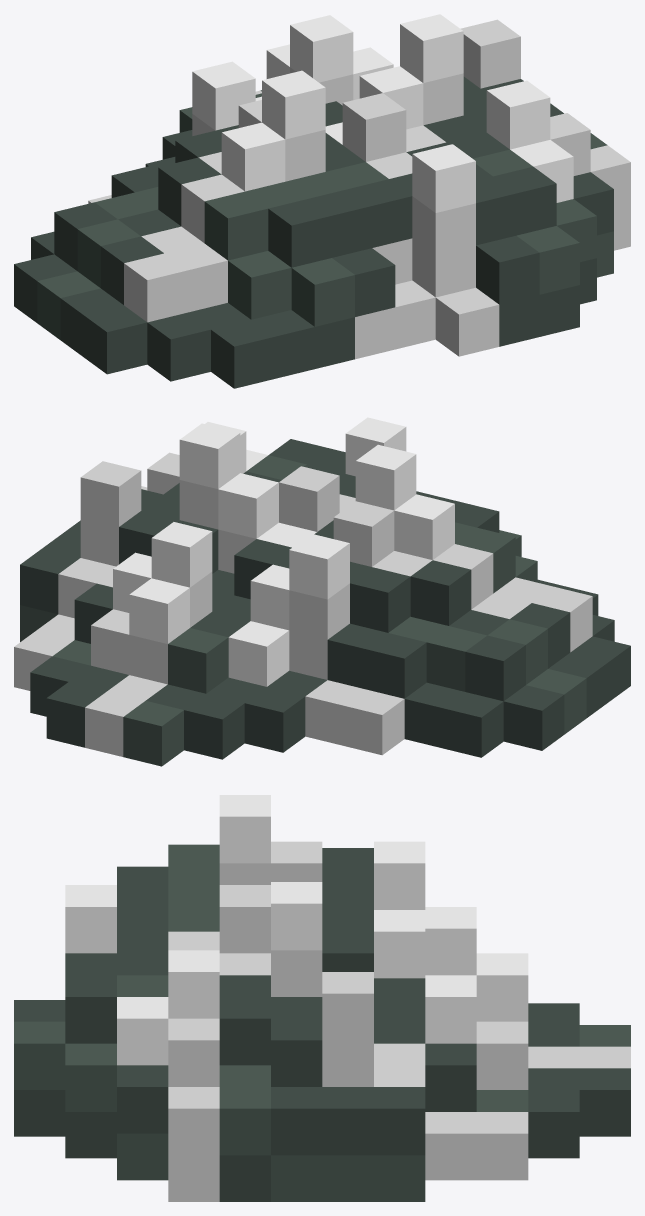
File: CrystalDeposit_M.obj
3 views of the same model, one above another, from view 1: azimuth 30°, elevation 25°; view 2: azimuth 150°, elevation 25°; view 3: azimuth 270°, elevation 25° (orthographic). The views are drawn at different scales.
Parts seen in each view (by area): view 1: CrystalDeposit_M; view 2: CrystalDeposit_M; view 3: CrystalDeposit_M.
Part boxes in pixels (x1,y1,x2,y2): CrystalDeposit_M: (14,14,630,388); CrystalDeposit_M: (14,417,630,766); CrystalDeposit_M: (14,795,630,1201).
Size of the model in its own units: 1.3 by 0.5 by 1.2.
Materials: 1 (1 with a texture image).
